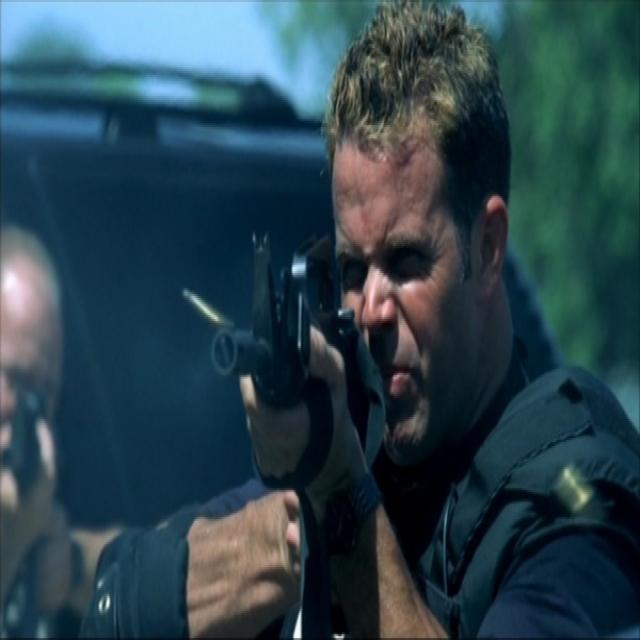rifle: (214, 217, 366, 404)
